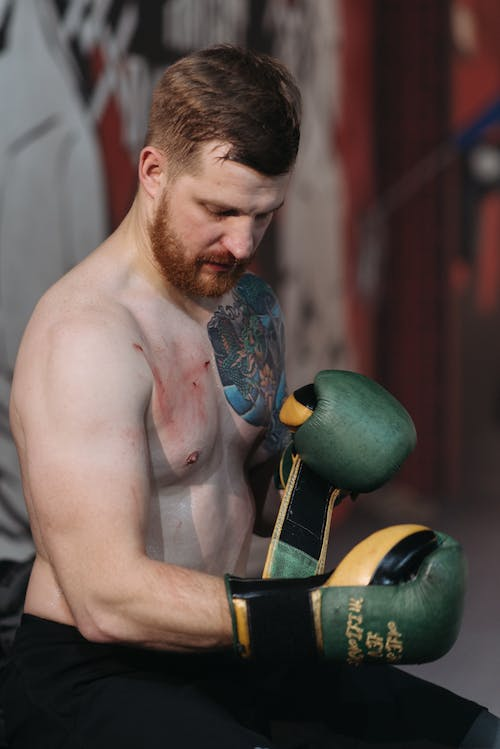blood: (131, 332, 212, 442)
